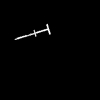double_crochet: (15, 24, 49, 39)
